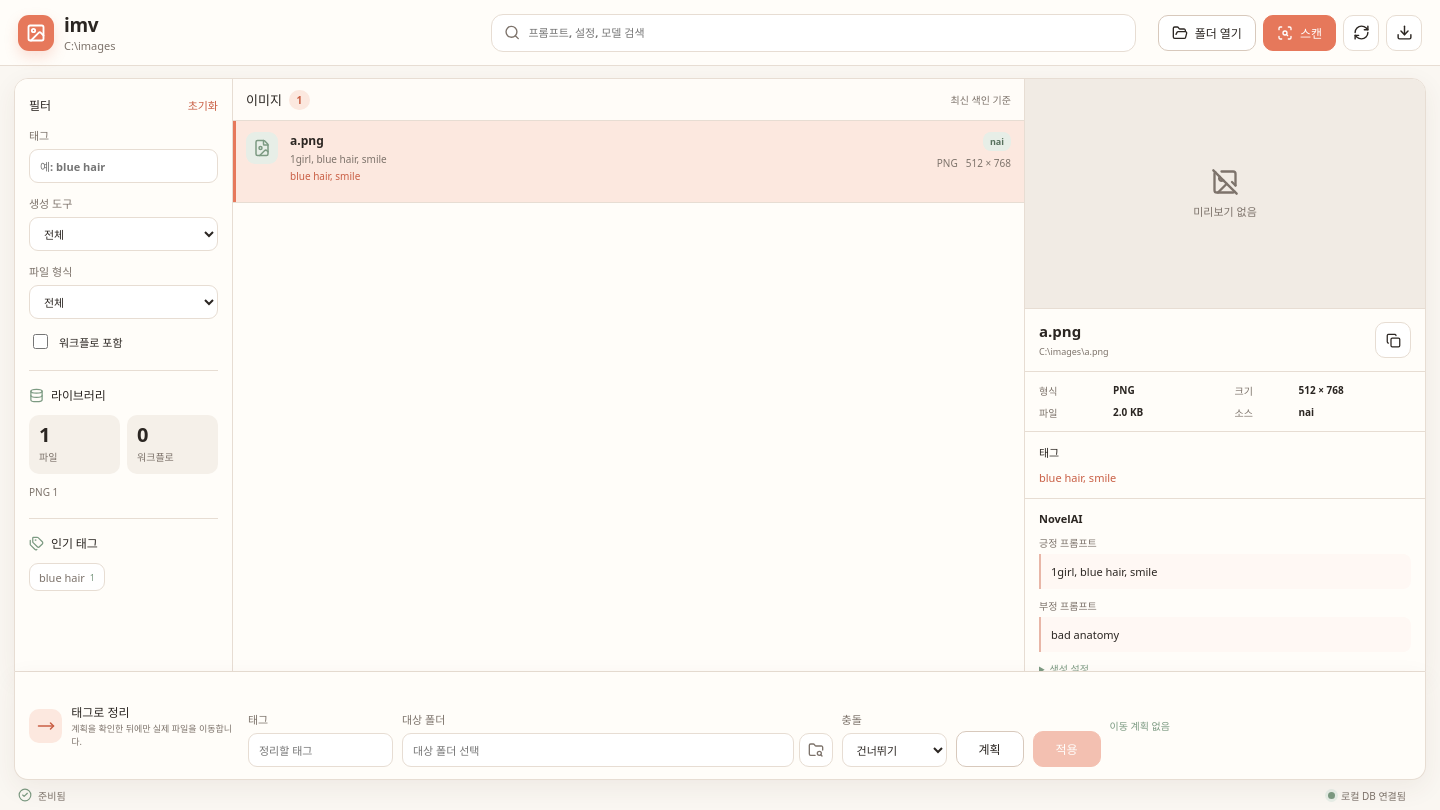
App › clears stale library state and loads the newly opened folder
The width and height of the screenshot is (1440, 810).
Expected: the text "a.png" is shown, [290,132,324,149]
Click the button with test id "open-folder-button" at {"x": 1207, "y": 32}, box [1158,14,1256,50]
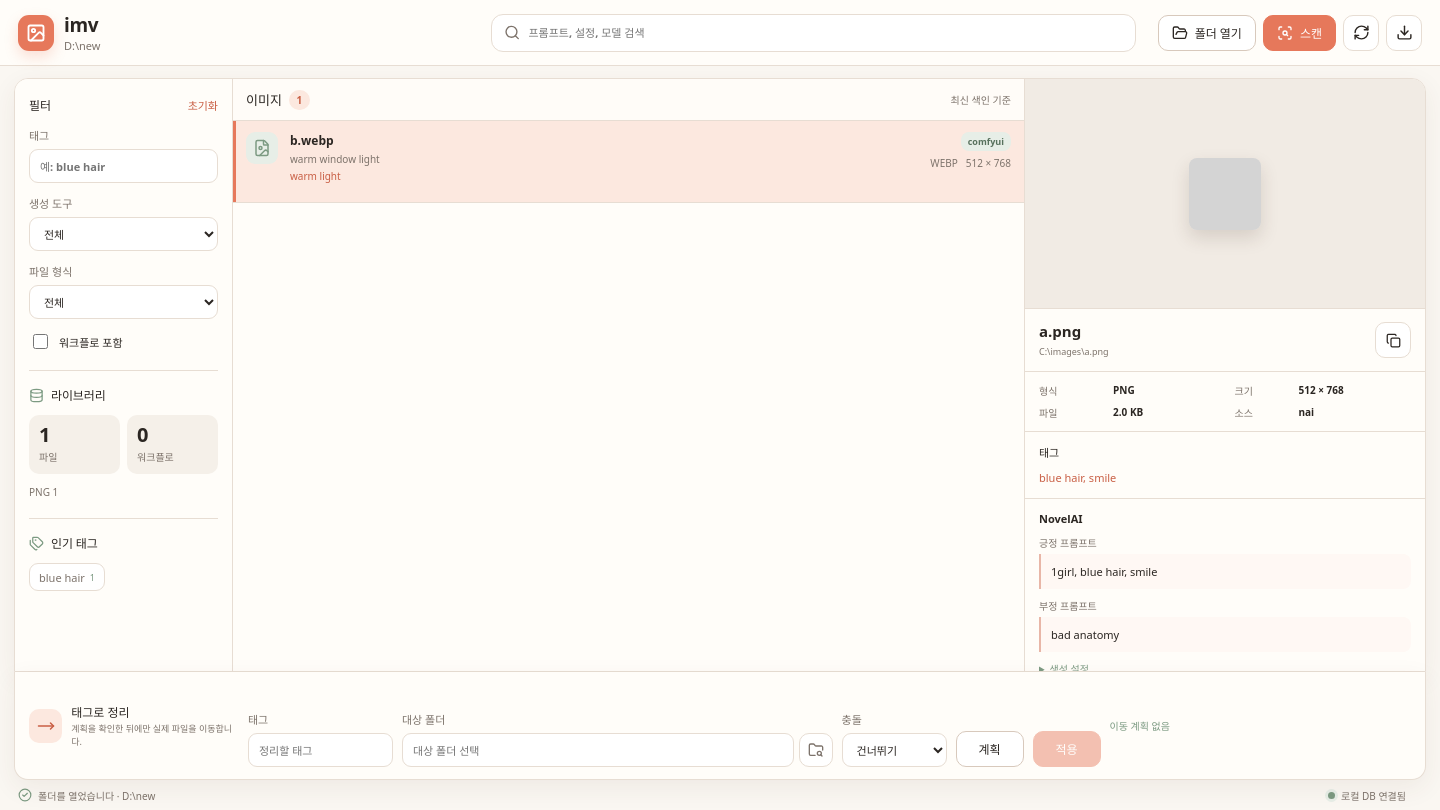
Expected: the text "b.webp" is shown, [290,132,334,149]
